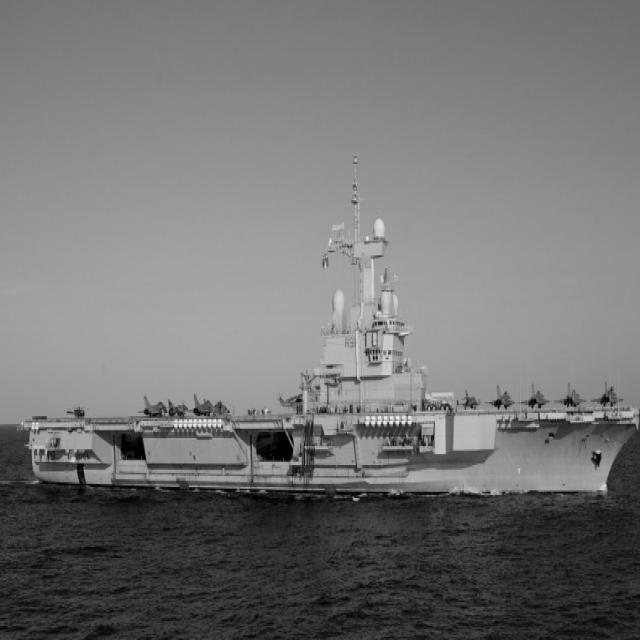Portanaves: (18, 146, 640, 509)
